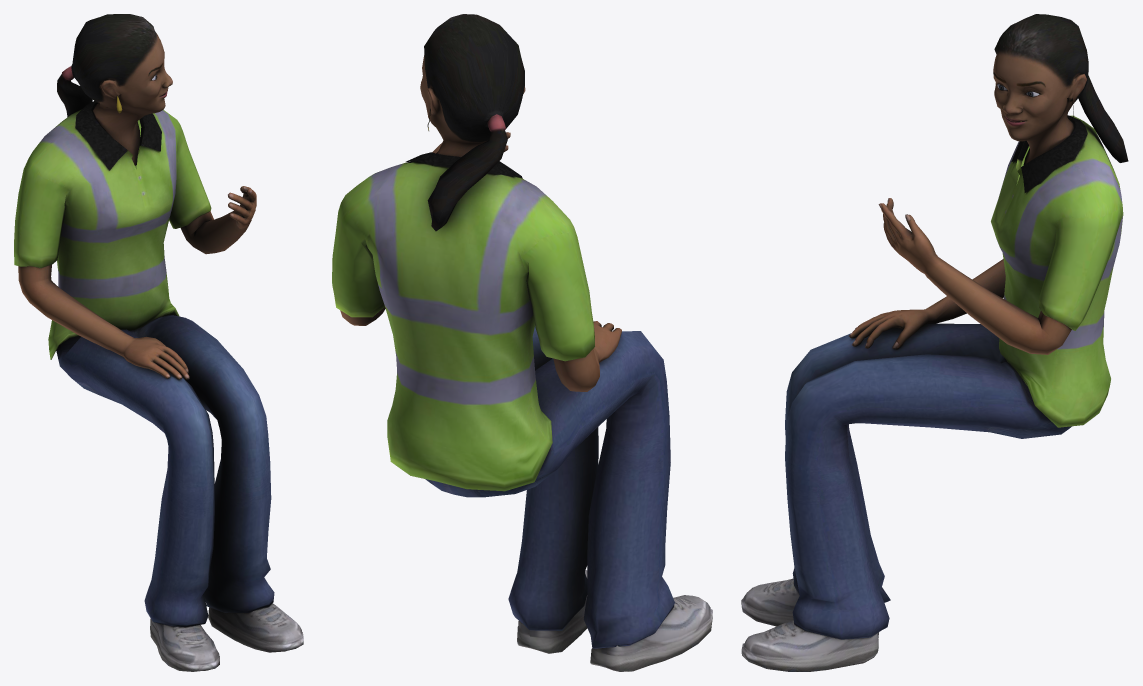
The model's file is SWRK01_10_02.FBX.
3 renders of one model, left to right at view 1: azimuth 30°, elevation 25°; view 2: azimuth 150°, elevation 25°; view 3: azimuth 270°, elevation 25°, orthographic. The views are drawn at different scales.
Parts seen in each view (by area): view 1: SWRK01_10_02; view 2: SWRK01_10_02; view 3: SWRK01_10_02.
Part boxes in pixels (x1,y1,x2,y2): SWRK01_10_02: (14, 14, 303, 671); SWRK01_10_02: (332, 14, 712, 671); SWRK01_10_02: (741, 14, 1128, 671).
Size of the model in its own units: 19.63 by 52.76 by 29.7.
1 material, 1 textured.
